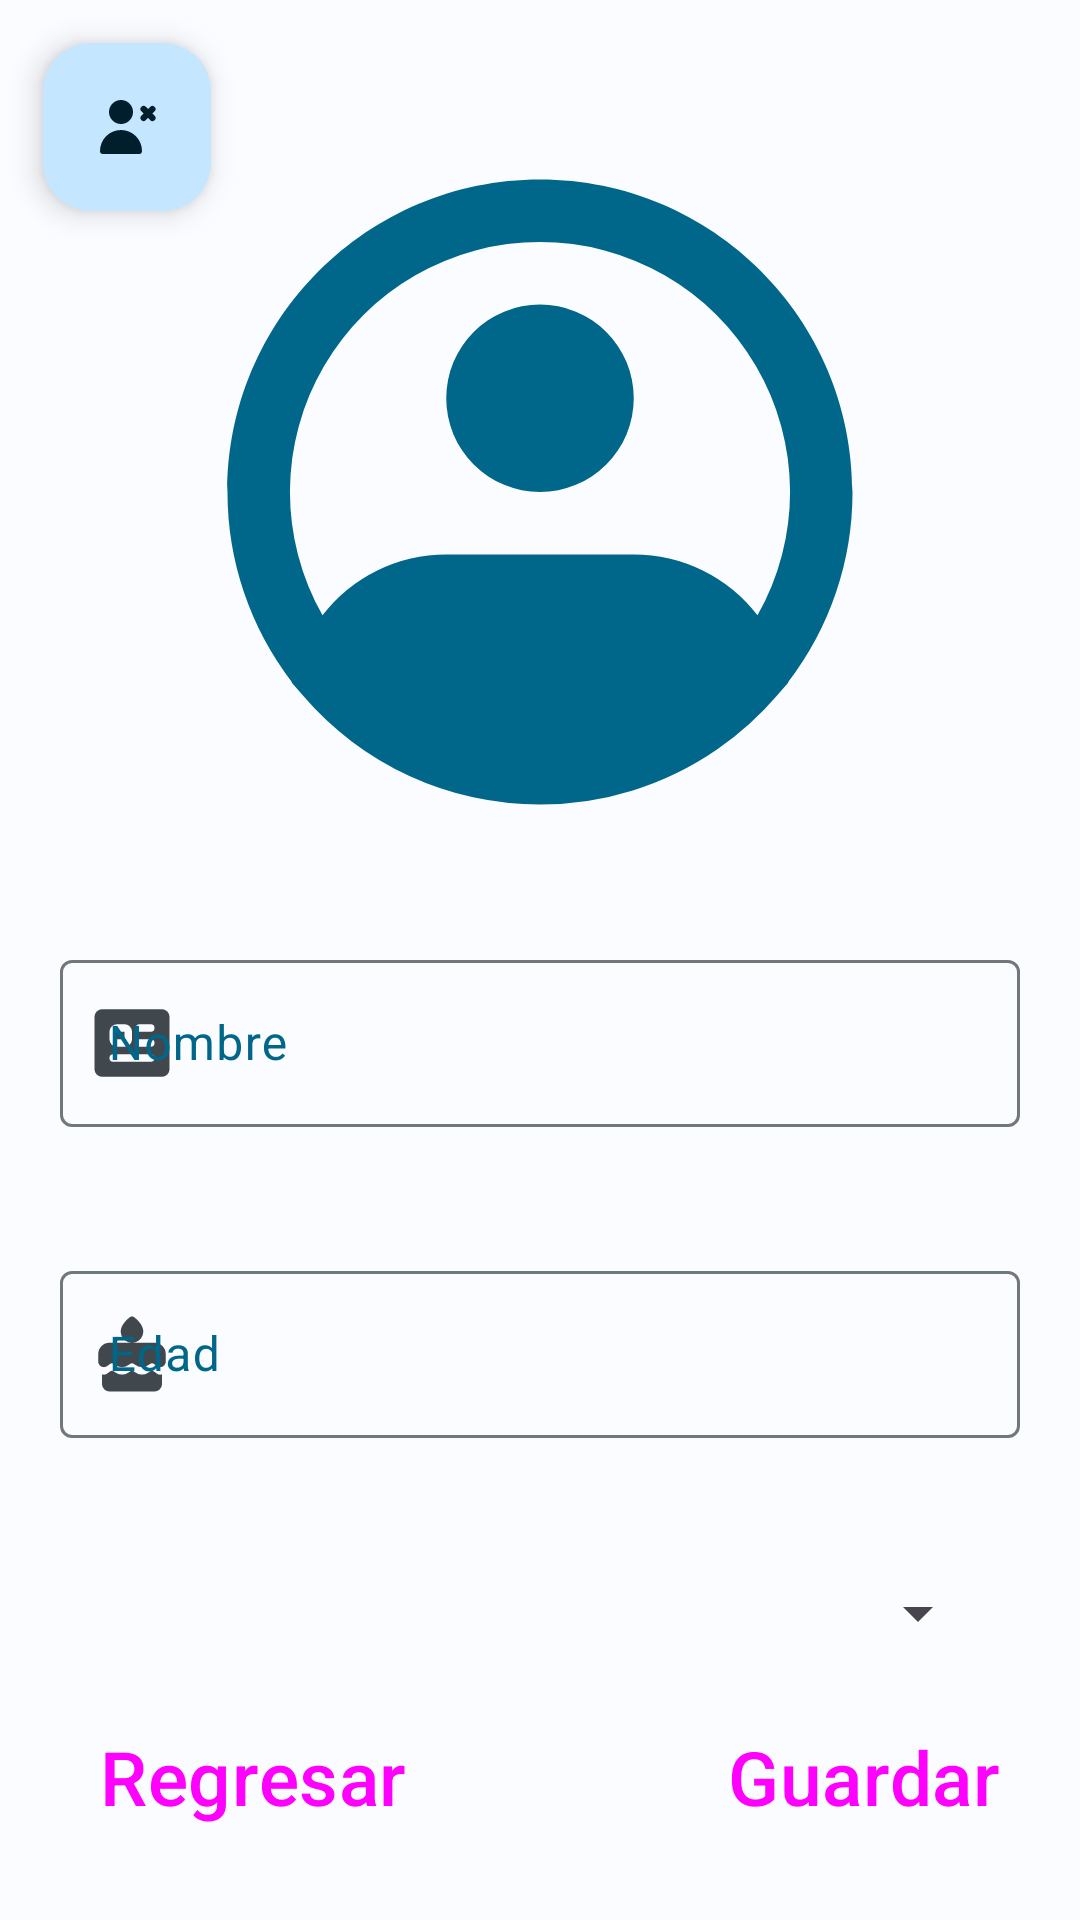

Where icons sit on this 1080×1920 app screen, as [x1,y1,x2,y2]:
deletepersonicon: [43,43,211,211]
